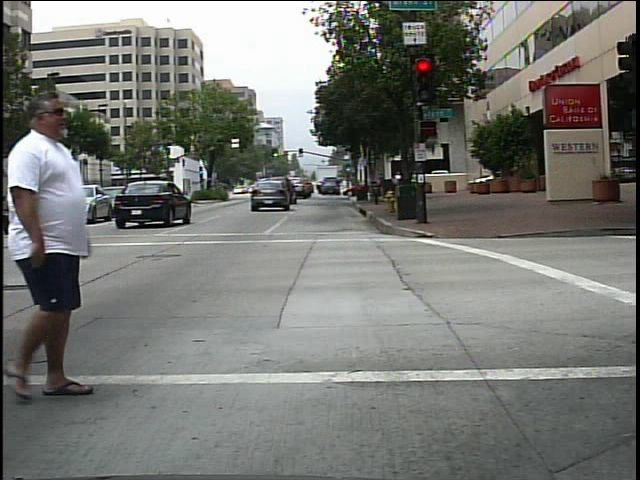person: (5, 89, 132, 401)
